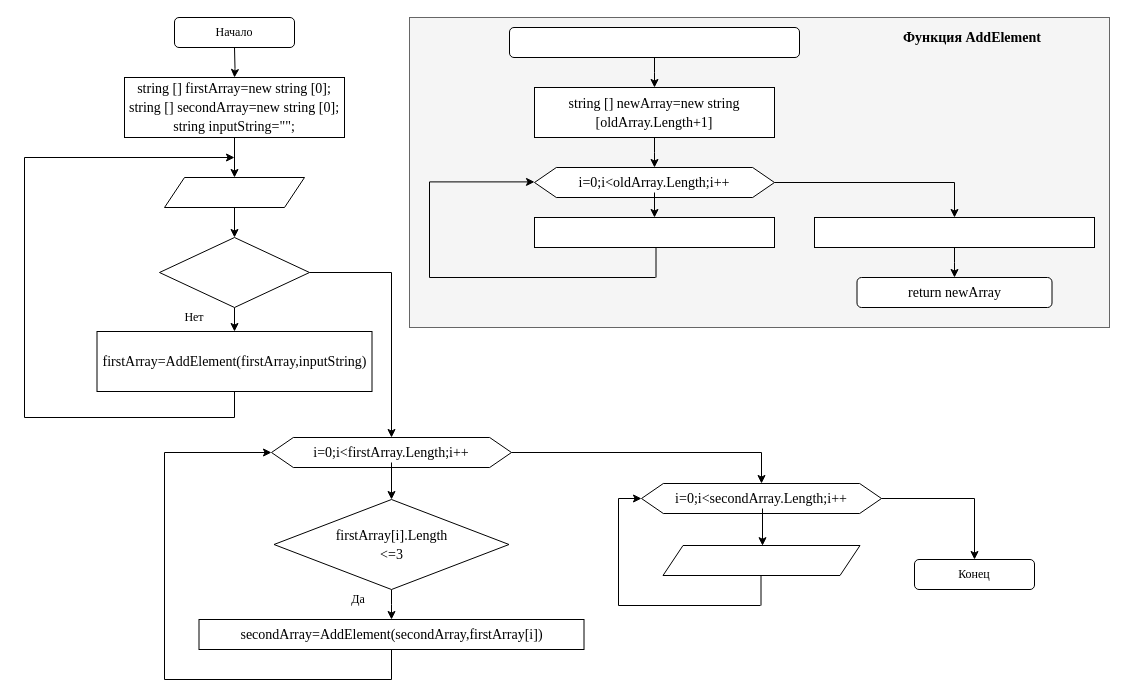
This 1127x698 diagram has some shape labels left out. The shapes that lost their labels are listed below. From the top down, each one's centre as x and y in pixels, then its label:
pixel 654 42: string [] oldArray , string newElement
pixel 234 192: ввод inputString
pixel 654 232: newArray [ i ]= oldArray [ i ]
pixel 954 232: newArray [ oldArray . Length ]= newElement
pixel 234 272: inputString=" ~exit"
pixel 761 560: вывод secondArray [ i ]
